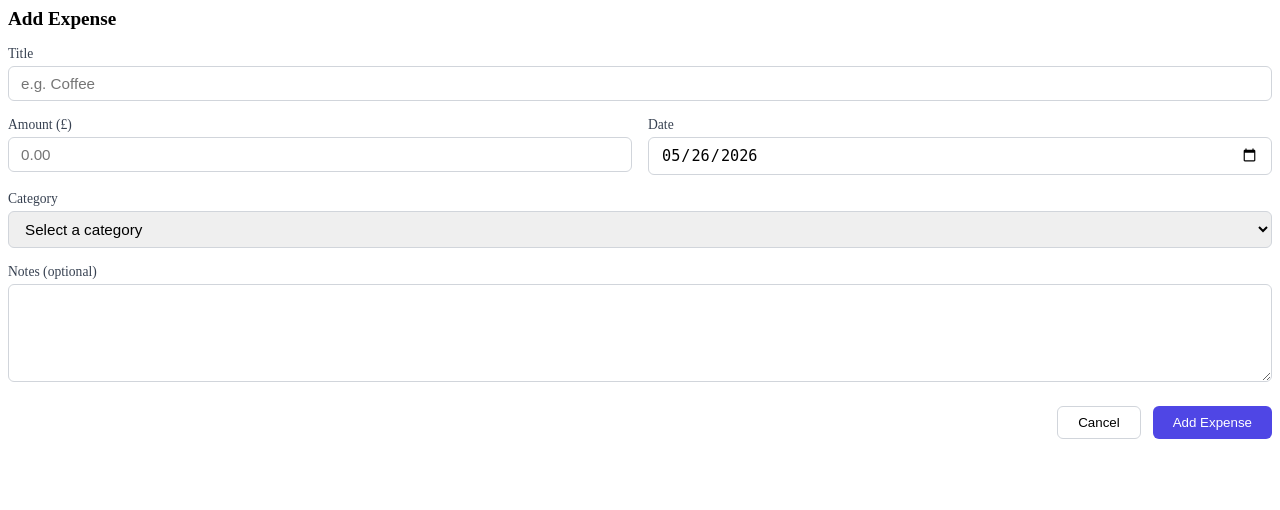
ExpenseForm › shows validation error when title is empty
Click the button "Add Expense": (1212, 422) [1153,406,1272,439]
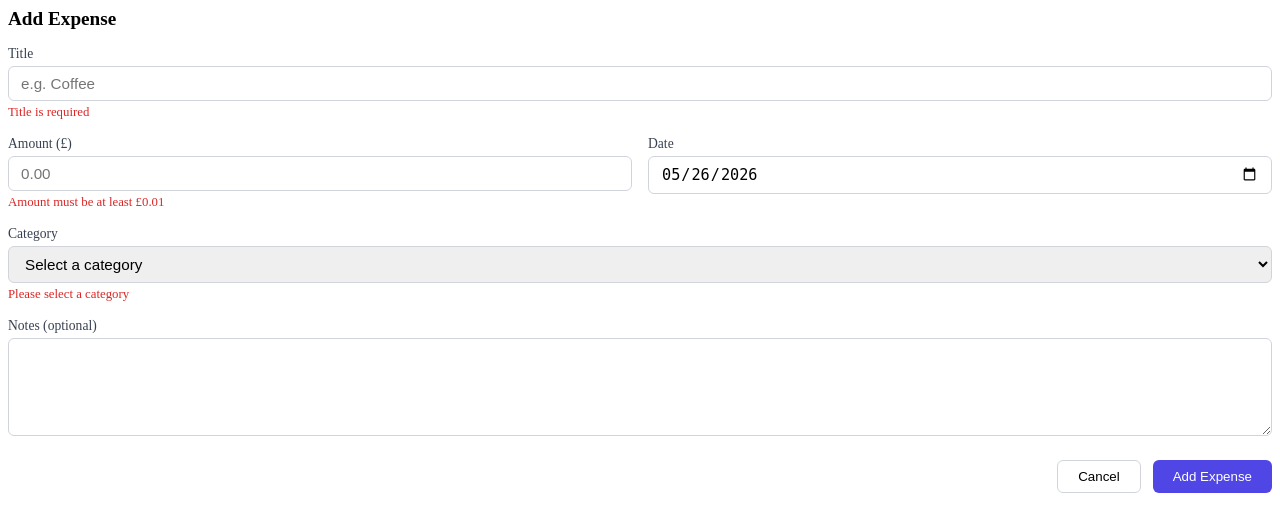
Now the text "Title is required" is shown, box [8,105,89,119]
